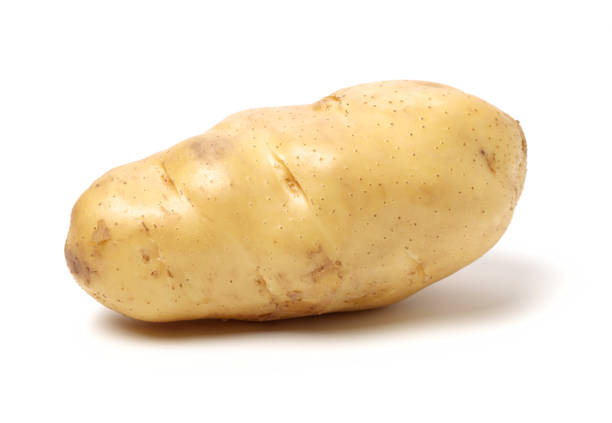potato: (63, 65, 533, 345)
